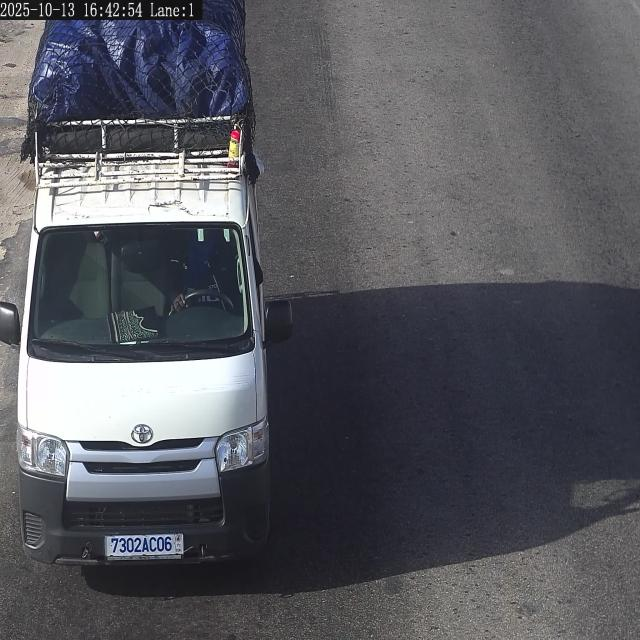BUS: (105, 534, 183, 560)
